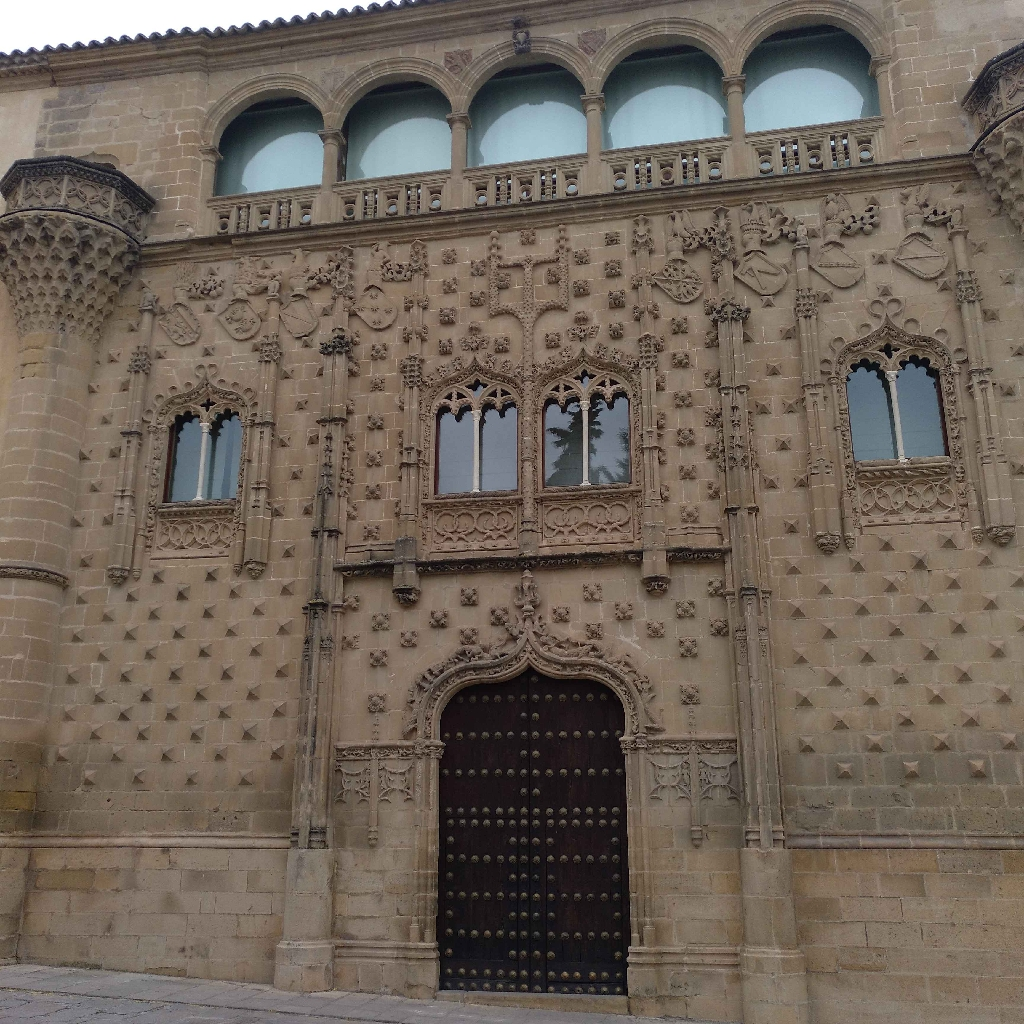arco-conopial: (418, 628, 648, 711), (824, 314, 953, 374), (531, 348, 639, 406), (145, 370, 259, 420), (422, 353, 521, 403)
arco-medio-punto: (723, 0, 887, 87), (586, 18, 732, 106), (202, 69, 330, 158), (454, 42, 587, 124), (327, 55, 452, 140)
